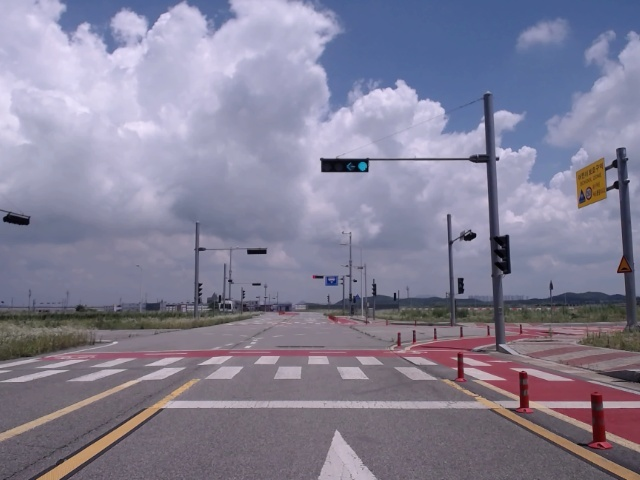all_green_4: (321, 156, 368, 172)
